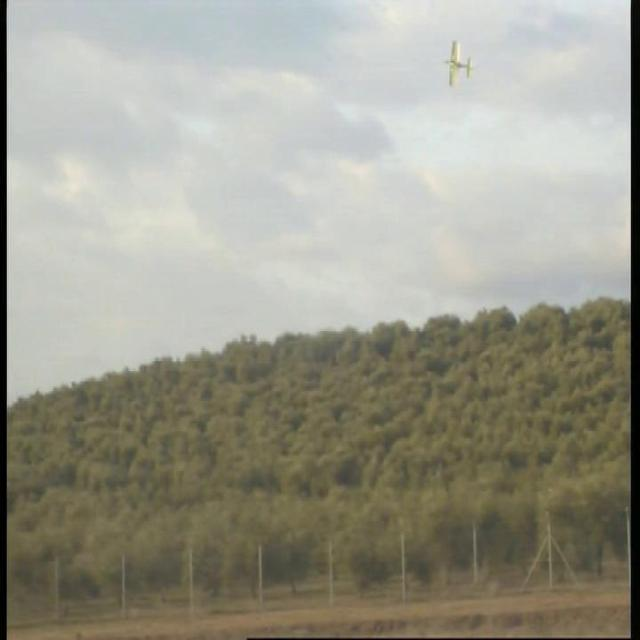drone: (433, 40, 474, 88)
